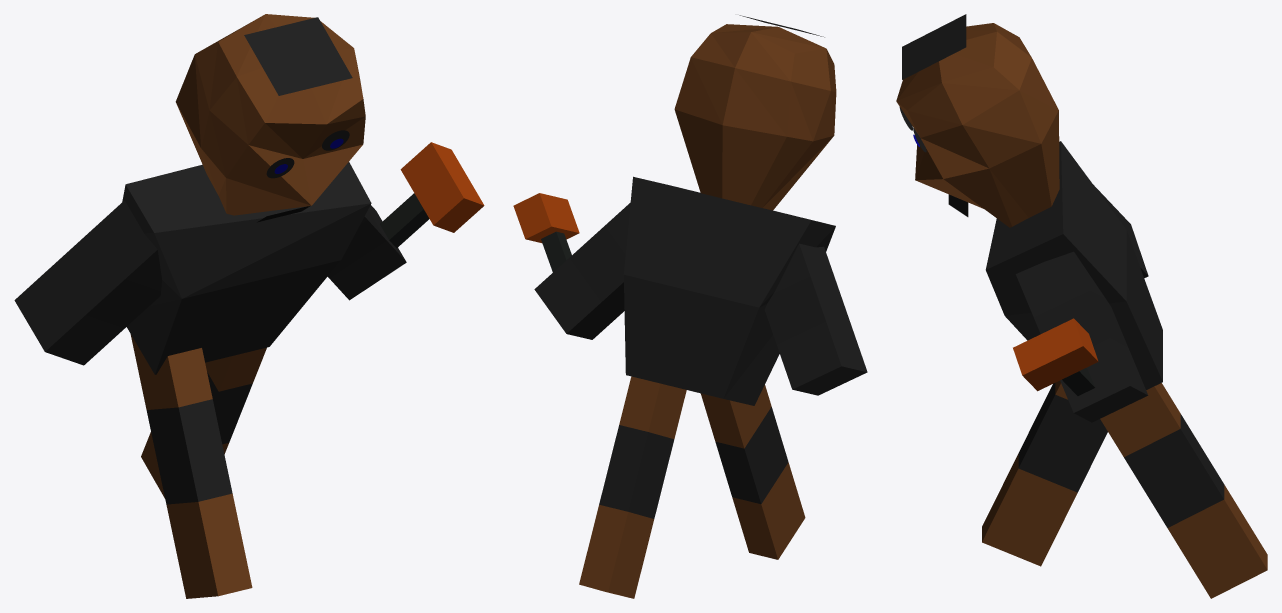
The model's file is servant1d.obj.
3 renders of one model, left to right at view 1: azimuth 30°, elevation 25°; view 2: azimuth 150°, elevation 25°; view 3: azimuth 270°, elevation 25°, orthographic. The views are drawn at different scales.
Visible parts, largest first — view 1: Cube.001, Cube, Cube.004, Cube.003, Plane.002, Cube.008, Cube.005, Cube.002, Cube.007; view 2: Cube.001, Cube, Cube.005, Cube.004, Cube.003, Cube.002, Cube.008, Cube.007; view 3: Cube, Cube.001, Cube.005, Cube.004, Cube.002, Cube.008, Plane.002, Cube.003, Cube.007.
Boxes of the visible parts, bbox=[...] form: Cube.001: bbox=[122, 162, 371, 374]; Cube: bbox=[175, 14, 365, 215]; Cube.004: bbox=[130, 334, 252, 598]; Cube.003: bbox=[14, 200, 161, 365]; Plane.002: bbox=[244, 17, 352, 95]; Cube.008: bbox=[400, 142, 484, 232]; Cube.005: bbox=[141, 347, 266, 498]; Cube.002: bbox=[327, 205, 406, 300]; Cube.007: bbox=[380, 193, 429, 248]; Cube.001: bbox=[623, 176, 835, 405]; Cube: bbox=[674, 24, 836, 210]; Cube.005: bbox=[579, 376, 686, 598]; Cube.004: bbox=[700, 385, 805, 559]; Cube.003: bbox=[764, 243, 867, 395]; Cube.002: bbox=[534, 202, 630, 339]; Cube.008: bbox=[513, 193, 579, 242]; Cube.007: bbox=[541, 231, 571, 271]; Cube: bbox=[896, 23, 1059, 227]; Cube.001: bbox=[985, 141, 1162, 389]; Cube.005: bbox=[1100, 383, 1267, 598]; Cube.004: bbox=[982, 380, 1107, 566]; Cube.002: bbox=[1015, 251, 1148, 422]; Cube.008: bbox=[1013, 318, 1098, 391]; Plane.002: bbox=[902, 14, 966, 79]; Cube.003: bbox=[1093, 184, 1148, 278]; Cube.007: bbox=[1062, 368, 1094, 395].
Bounding box in the file's own units: 4.16 × 5.7 × 3.52.
